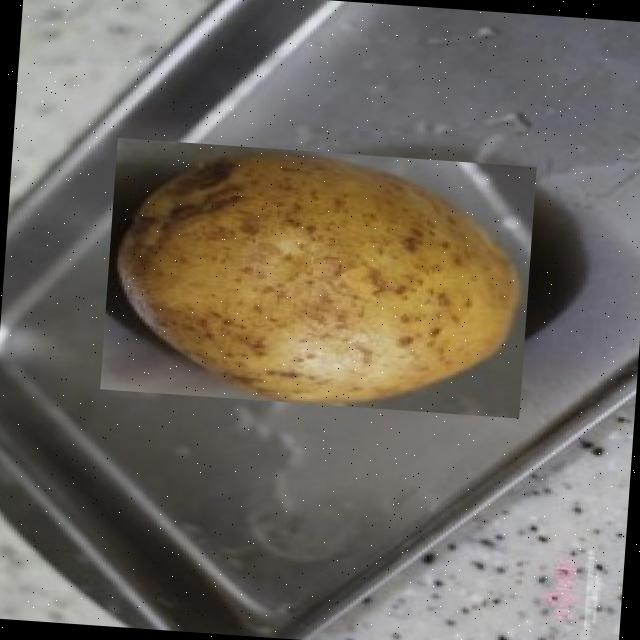Potato: (98, 137, 536, 418)
